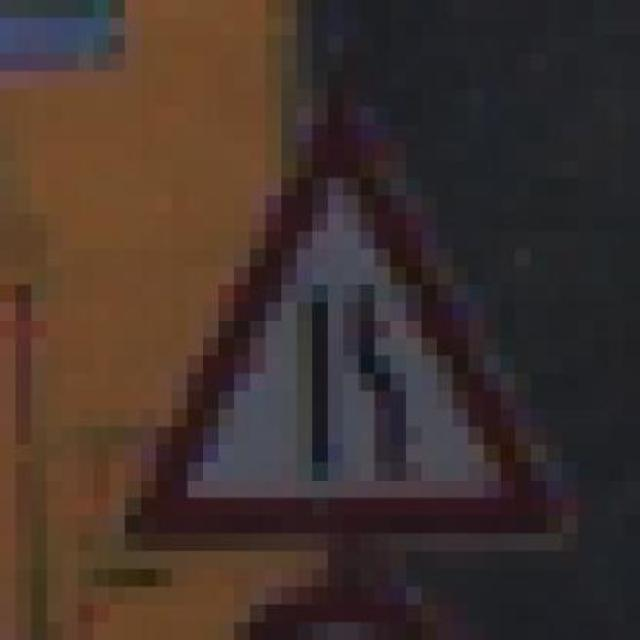-Road narrows on right: (93, 107, 578, 551)
